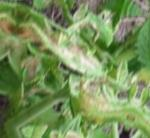Tomato leaf mosaic virus: (24, 24, 108, 83)
